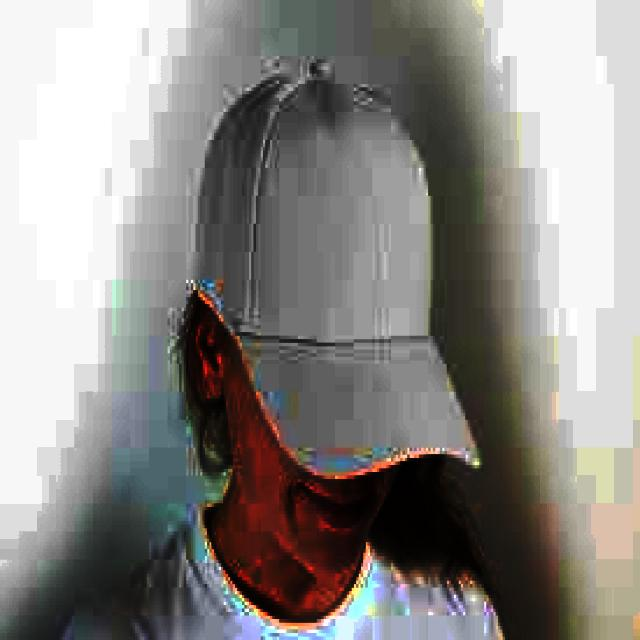TOPI: (184, 52, 482, 476)
